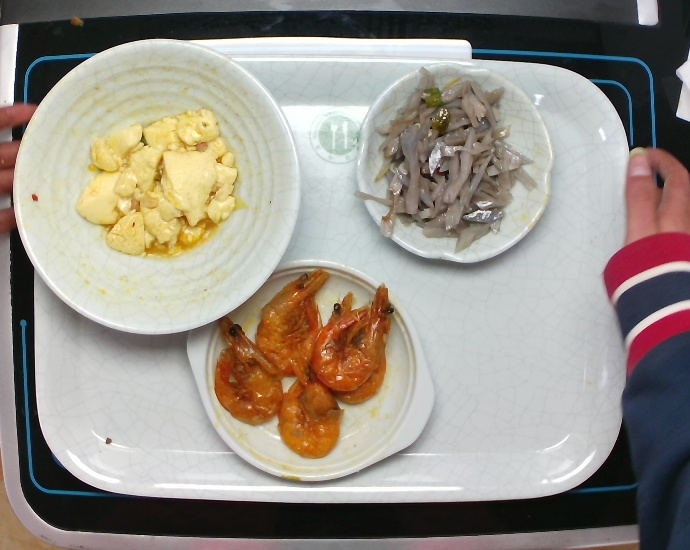JYsf-Ao_Yuan_Wan: (351, 59, 561, 266)
JYsf-Shuang_Er_Pan: (177, 253, 438, 488)
JYsf-Xiao_Tang_Wan: (10, 33, 316, 344)
